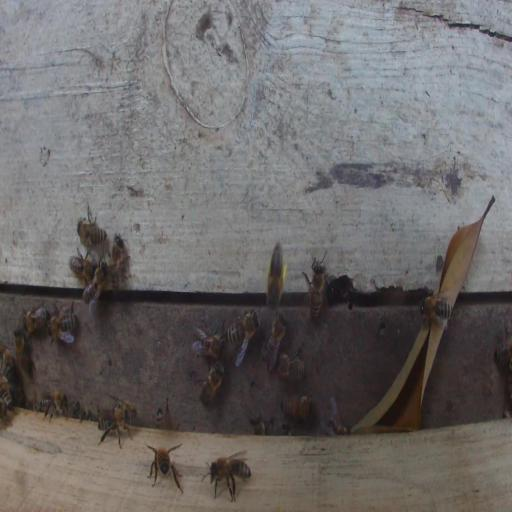nonpollenbee: (204, 451, 250, 503), (226, 310, 261, 367), (97, 400, 137, 448), (146, 442, 183, 492), (260, 312, 287, 371), (304, 251, 327, 320), (47, 301, 77, 345), (197, 360, 224, 406), (192, 323, 225, 359), (82, 264, 107, 311), (13, 328, 35, 379), (419, 294, 453, 327), (108, 235, 129, 287), (325, 396, 352, 436), (77, 215, 107, 249), (281, 394, 315, 422), (38, 390, 68, 421), (277, 350, 305, 381), (23, 305, 48, 336), (68, 255, 95, 283), (1, 343, 16, 379), (1, 383, 15, 419), (494, 344, 511, 368), (249, 412, 266, 435), (154, 402, 169, 427)
pollenbee: (267, 244, 287, 308)
